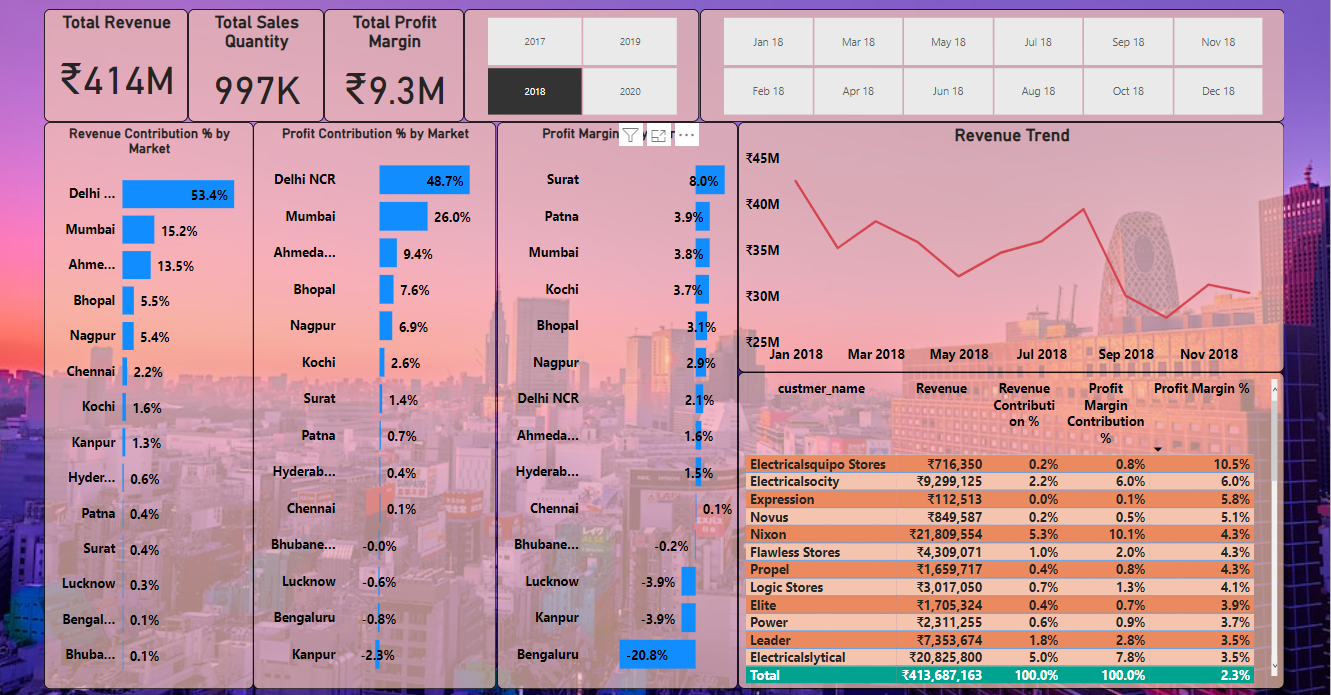

This screenshot's page, from the dashboard's own definition file:
{"tool":"powerbi","page":{"name":"Profit Analysis","canvas":[1550,850],"ordinal":1},"visuals":[{"type":"card","title":"Total Revenue","fields":{"Values":["BaseMeasures (2).Revenue"]},"box":[0,0,180.2,141.1],"z":0},{"type":"card","title":"Total Sales Quantity","fields":{"Values":["BaseMeasures (2).Sales Qty"]},"box":[180.2,0,170,141.1],"z":1000},{"type":"barChart","title":"Profit Margin% by market  ","fields":{"Y":["BaseMeasures (2).Profit Margin %"],"Category":["sales markets.markets_name"]},"box":[566.1,141.1,300.9,708.9],"z":2000},{"type":"barChart","title":"Profit Contribution % by Market","fields":{"Y":["BaseMeasures (2).Profit Margin Contribution %"],"Category":["sales markets.markets_name"]},"box":[261.8,141.1,304.3,708.9],"z":3000},{"type":"slicer","fields":{"Values":["sales date.year"]},"box":[525.3,0,294.1,141.1],"z":4000},{"type":"slicer","fields":{"Values":["sales date.cy_date"]},"box":[819.4,0,731,141.1],"z":5000},{"type":"tableEx","title":"Top 5 Customers","fields":{"Values":["sales customers.custmer_name","BaseMeasures (2).Revenue","BaseMeasures (2).Revenue Contribution %","BaseMeasures (2).Profit Margin Contribution %","BaseMeasures (2).Profit Margin %"]},"box":[867,453.9,683.4,396.1],"z":6000},{"type":"lineChart","title":"Revenue Trend","fields":{"Y":["BaseMeasures (2).Revenue"],"Category":["sales date.cy_date"]},"box":[867,141.1,683.4,312.8],"z":7000},{"type":"card","title":"Total Profit Margin","fields":{"Values":["BaseMeasures (2).Total Profit Margin"]},"box":[350.2,0,175.1,141.1],"z":8000},{"type":"barChart","title":"Revenue Contribution % by Market","fields":{"Y":["BaseMeasures (2).Revenue Contribution %"],"Category":["sales markets.markets_name"]},"box":[0,141.1,261.8,708.9],"z":9000}]}

Visuals, with their boxes in screenshot pixels (x1, y1, x2, y2):
"Total Revenue" card: x1=38, y1=3, x2=184, y2=118
"Total Sales Quantity" card: x1=184, y1=3, x2=321, y2=118
"Profit Margin% by market  " barChart: x1=496, y1=118, x2=739, y2=691
"Profit Contribution % by Market" barChart: x1=250, y1=118, x2=496, y2=691
slicer - sales date.year: x1=463, y1=3, x2=700, y2=118
slicer - sales date.cy_date: x1=700, y1=3, x2=1291, y2=118
"Top 5 Customers" tableEx: x1=739, y1=370, x2=1291, y2=691
"Revenue Trend" lineChart: x1=739, y1=118, x2=1291, y2=370
"Total Profit Margin" card: x1=321, y1=3, x2=463, y2=118
"Revenue Contribution % by Market" barChart: x1=38, y1=118, x2=250, y2=691
